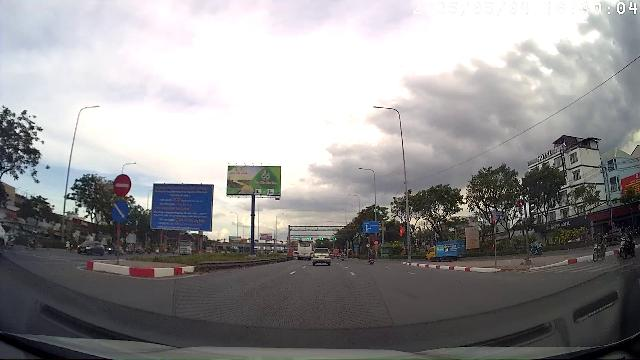102-cam-di-nguoc-chieu: (113, 174, 132, 196)
302a-huong-phai-di-vong-chuong-ngai-vat-1: (111, 198, 129, 223)
